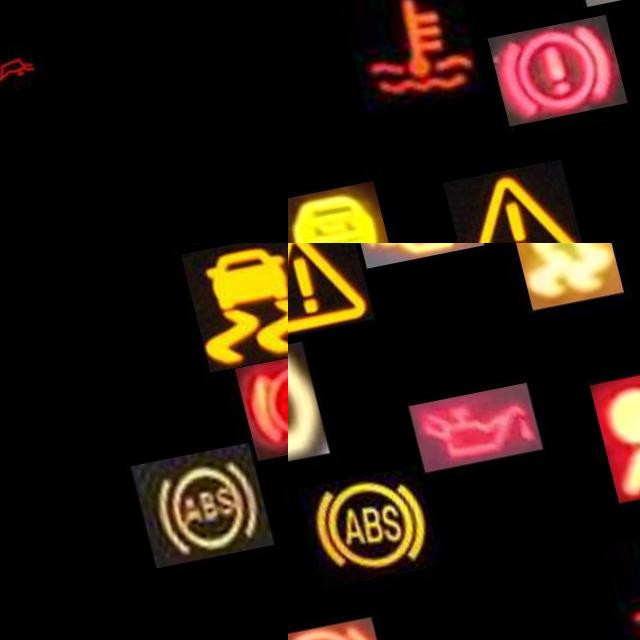Central Warning lamp: (430, 172, 570, 243), (288, 243, 362, 349)
Engine cooling system: (337, 0, 478, 120), (577, 544, 640, 640)
